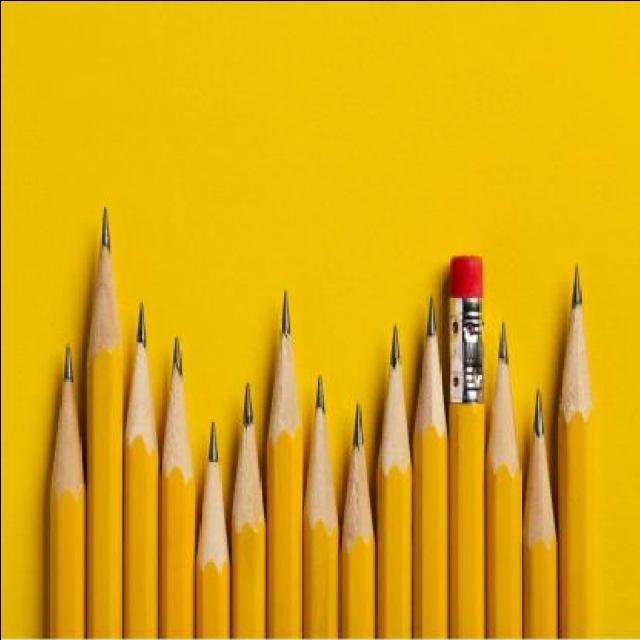pencil: (372, 309, 418, 525), (552, 252, 600, 454), (517, 378, 560, 596), (262, 278, 306, 486), (409, 283, 454, 486), (226, 372, 269, 583), (82, 190, 124, 404), (298, 364, 342, 566), (338, 387, 380, 593), (44, 328, 87, 529), (118, 290, 160, 494), (482, 310, 524, 513), (156, 323, 198, 520), (194, 412, 231, 596)
